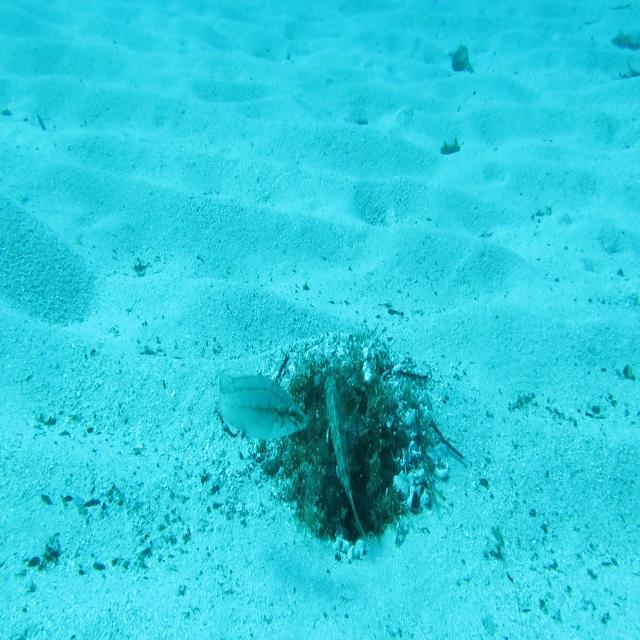ROLL: (321, 374, 371, 547)
core_nest: (316, 382, 364, 416)
female: (214, 364, 310, 446)
nest: (240, 317, 455, 575)
vegetation: (605, 0, 640, 83), (450, 45, 476, 78), (439, 136, 464, 158)
